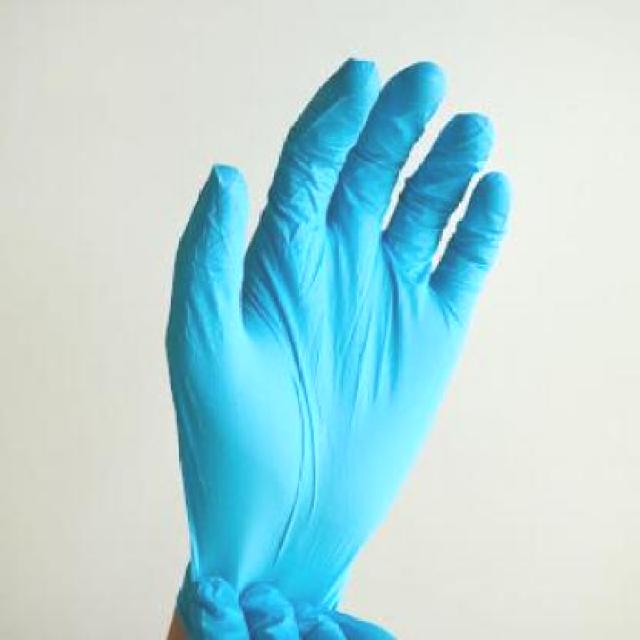glove: (147, 57, 521, 625)
